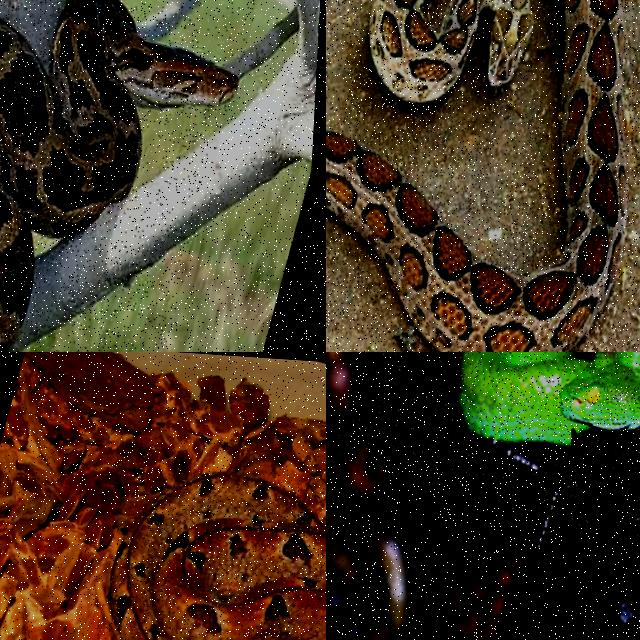Calloselasma rhodostoma: (110, 473, 325, 639)
Daboia siamensis: (326, 0, 626, 351)
Python bivittatus: (0, 0, 236, 351)
Trimeresurus macrops: (457, 352, 639, 446)
snake: (326, 0, 626, 351), (0, 0, 236, 351), (110, 473, 325, 639), (457, 352, 639, 446)
